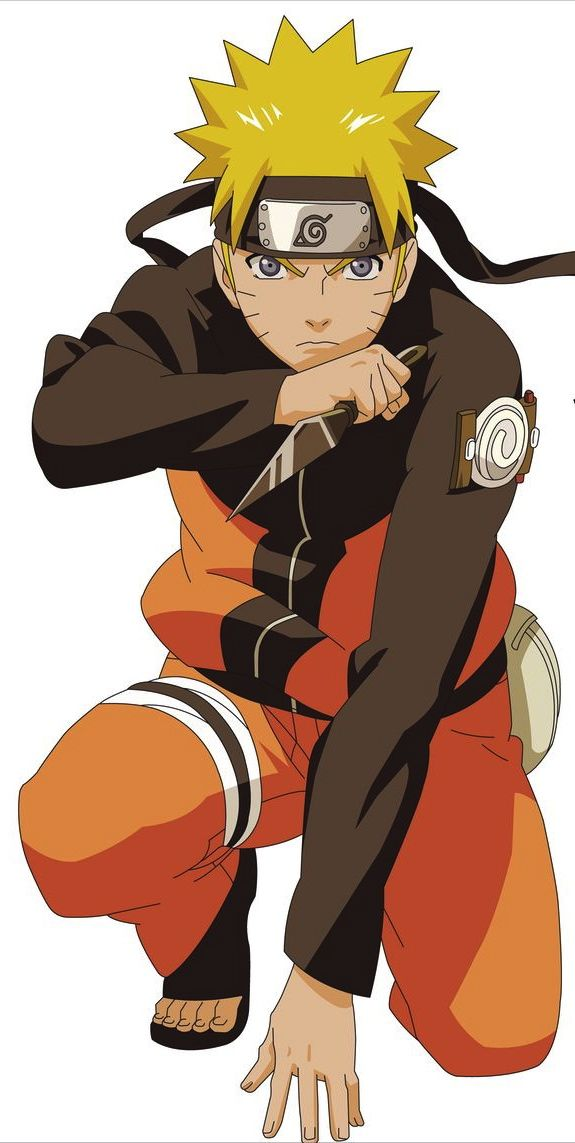naruto: (209, 163, 421, 371)
